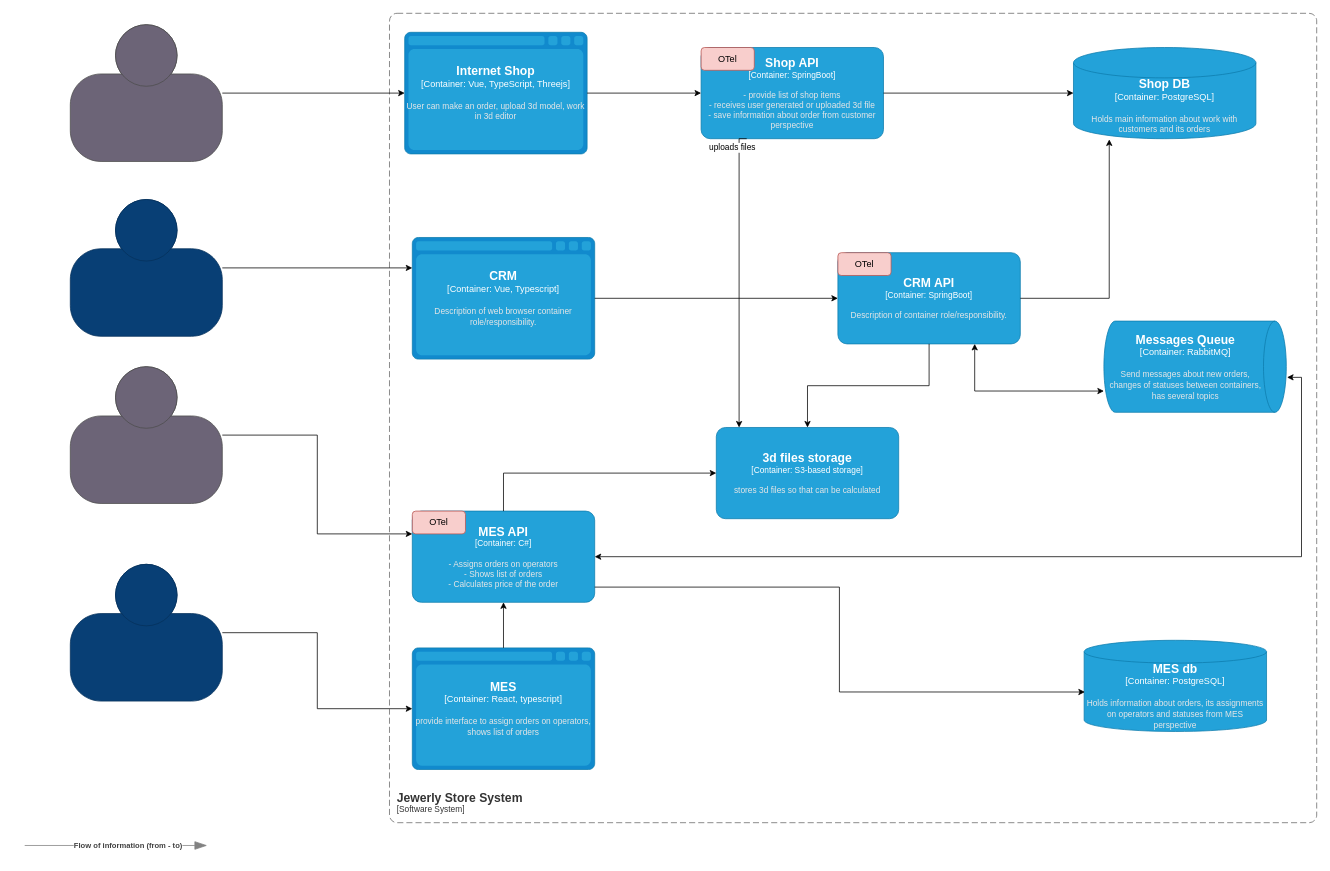
The diagram is 1330 pixels wide and 871 high, and some of its shapes have lost their labels. Here are the shapes that lost their labels. From the top down, the centre of each, then its label:
point 146,93: Customer [Person] Description of external person.
point 146,267: Seller [Person] Operates with order, confirms manufacturing for the user
point 146,435: API user [Person] Description of external person.
point 146,632: Operator [Person] Takes order in work, manufactures jewerly
